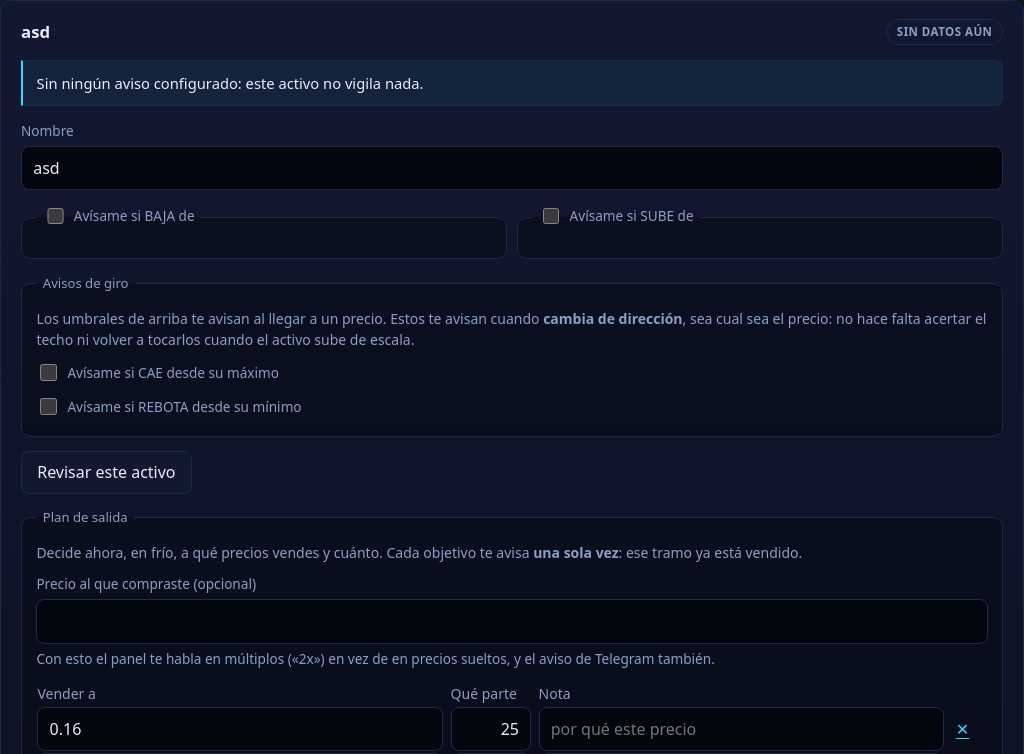
el plan de salida › quitar un objetivo lo quita de verdad
This screenshot has width=1024, height=754.
Click the button named "Quitar el objetivo 1". click: click(962, 729)
box: [952,713,973,746]
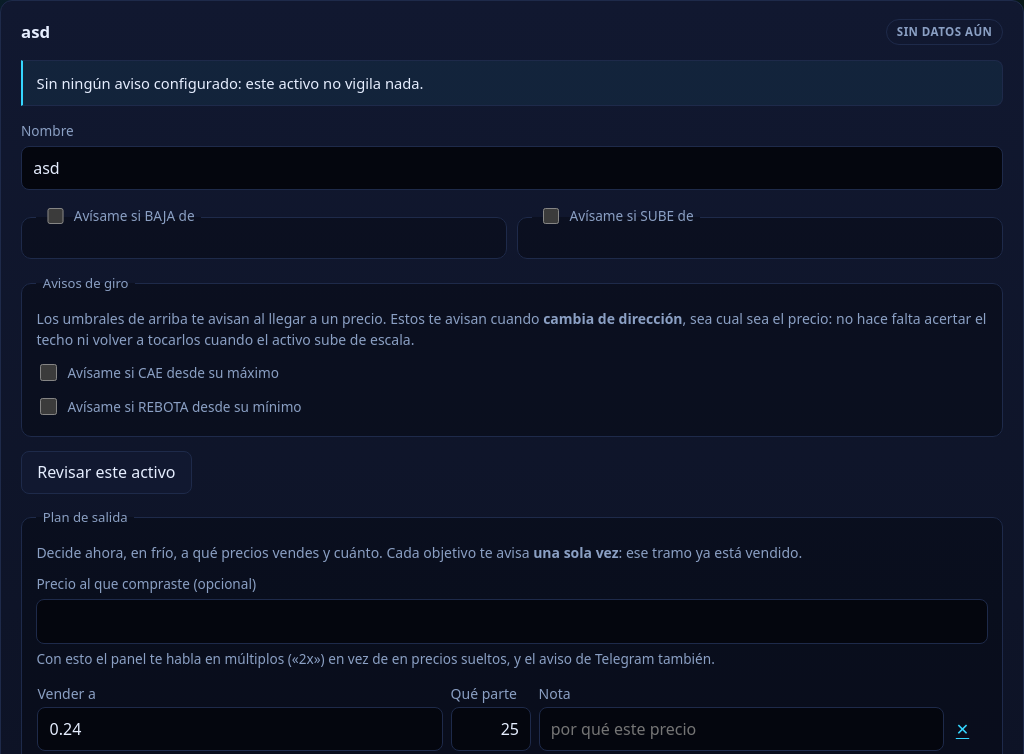
Expected: the field showing "0.16" is not shown
Expected: the field showing "0.24" is shown, [37,707,443,751]
